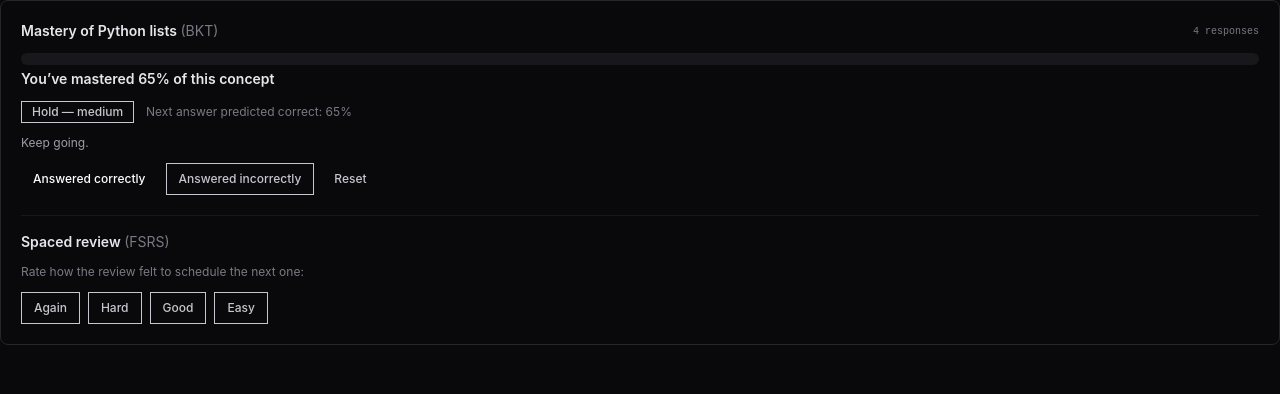
Test case: shows an FSRS next-review interval after rating a review
The width and height of the screenshot is (1280, 394).
Expected: the text "You’ve mastered 65% of this concept" is shown, x1=21 y1=70 x2=274 y2=87
Click the button "Good": coordinates (178, 308) x1=150 y1=292 x2=206 y2=324
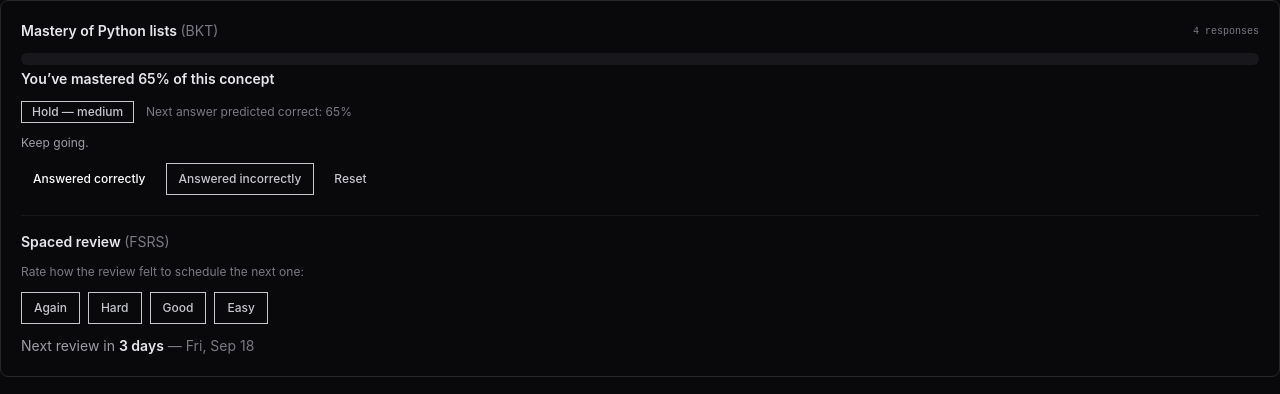
Now the text "Next review in 3 days — Fri, Sep 18" is shown, box x1=21 y1=337 x2=254 y2=354
